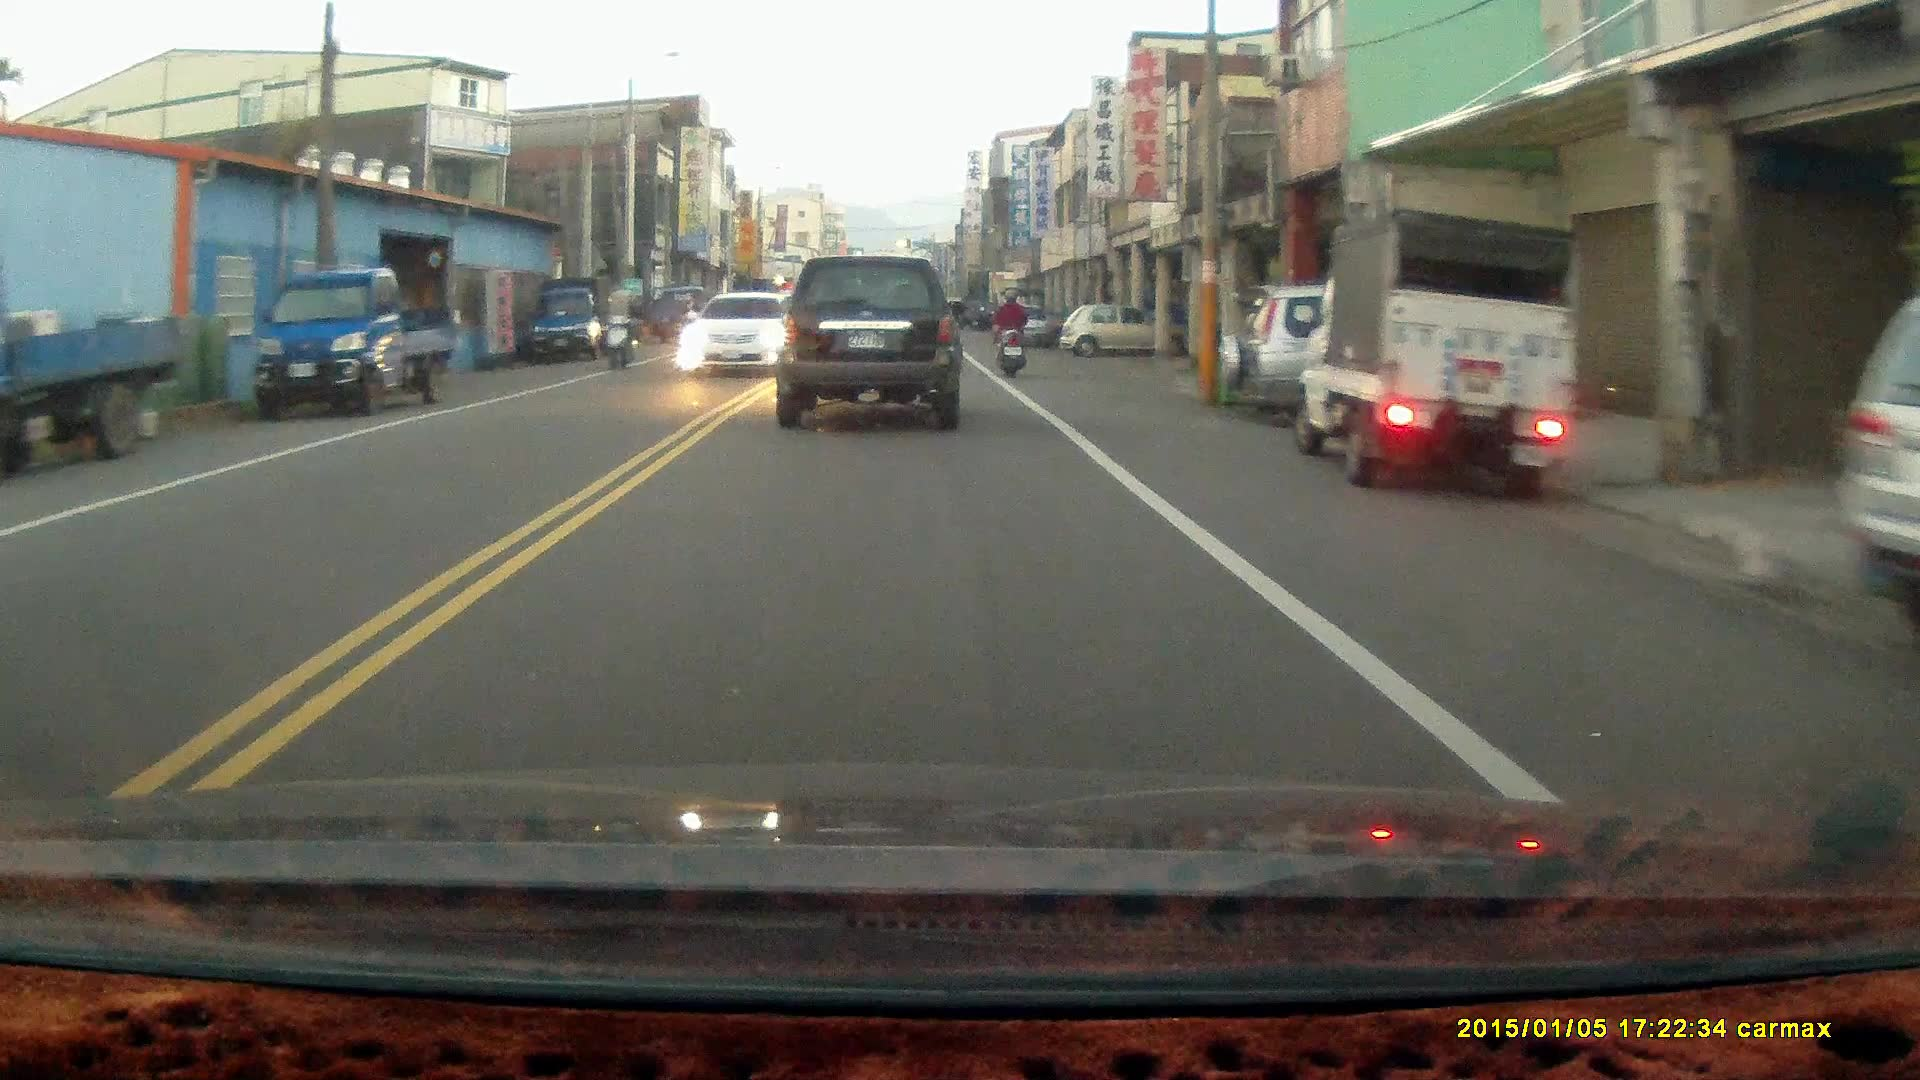rider: (991, 281, 1028, 377), (598, 279, 636, 372)
vehicle: (1294, 210, 1586, 506), (1216, 277, 1565, 429), (1, 265, 188, 473), (771, 255, 965, 431), (252, 270, 459, 417), (686, 290, 793, 380), (522, 278, 630, 362), (1064, 305, 1151, 358)
